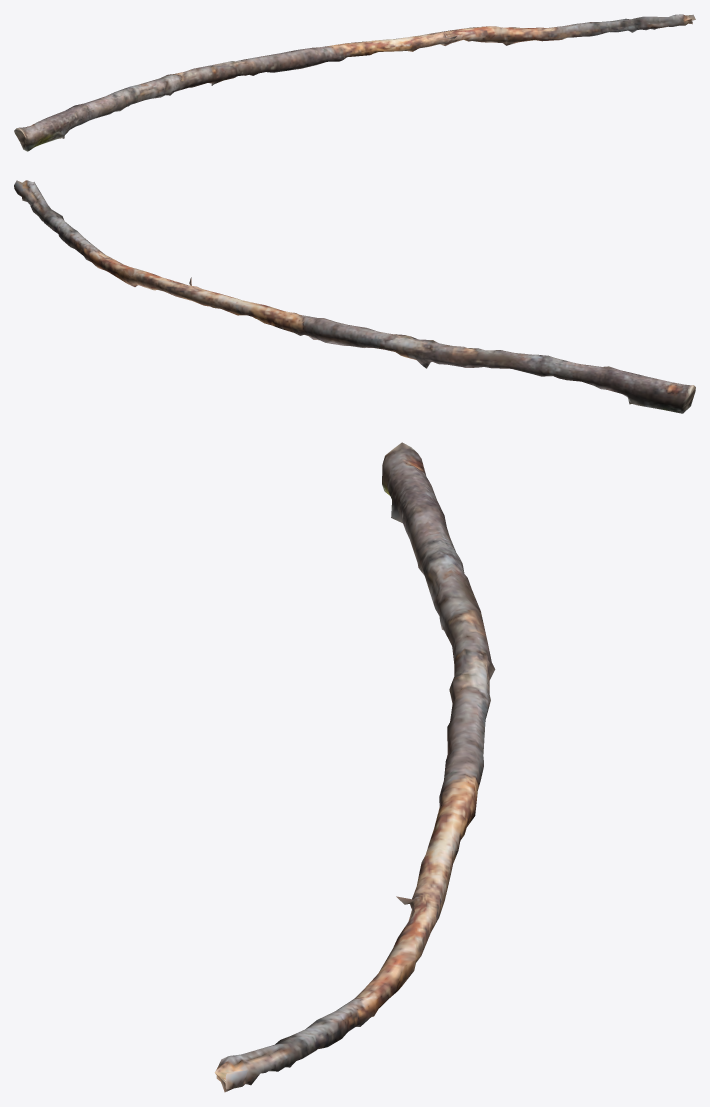
Rendered from SM_Branch_09.fbx.
3 views of the same model, one above another, from view 1: azimuth 30°, elevation 25°; view 2: azimuth 150°, elevation 25°; view 3: azimuth 270°, elevation 25° (orthographic). The views are drawn at different scales.
Visible parts, largest first — view 1: SM_Branch_09; view 2: SM_Branch_09; view 3: SM_Branch_09.
Part boxes in pixels (bbox=[...]): SM_Branch_09: bbox=[14, 14, 695, 151]; SM_Branch_09: bbox=[14, 180, 695, 413]; SM_Branch_09: bbox=[214, 442, 495, 1092].
Bounding box in the file's own units: 317 × 60.77 × 18.52.
1 material, 1 textured.
